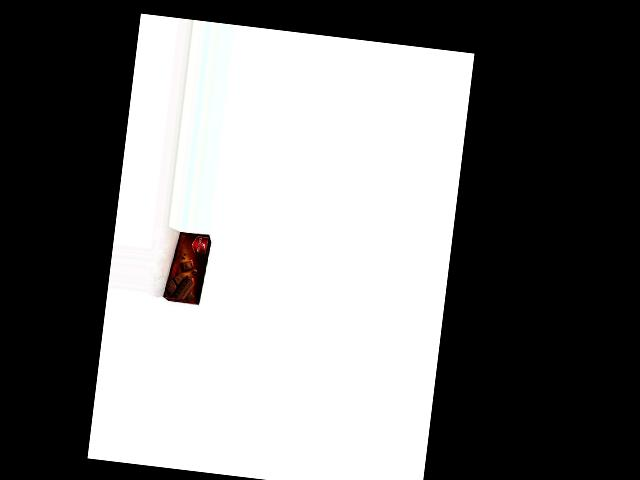chocolate: (161, 229, 212, 304)
